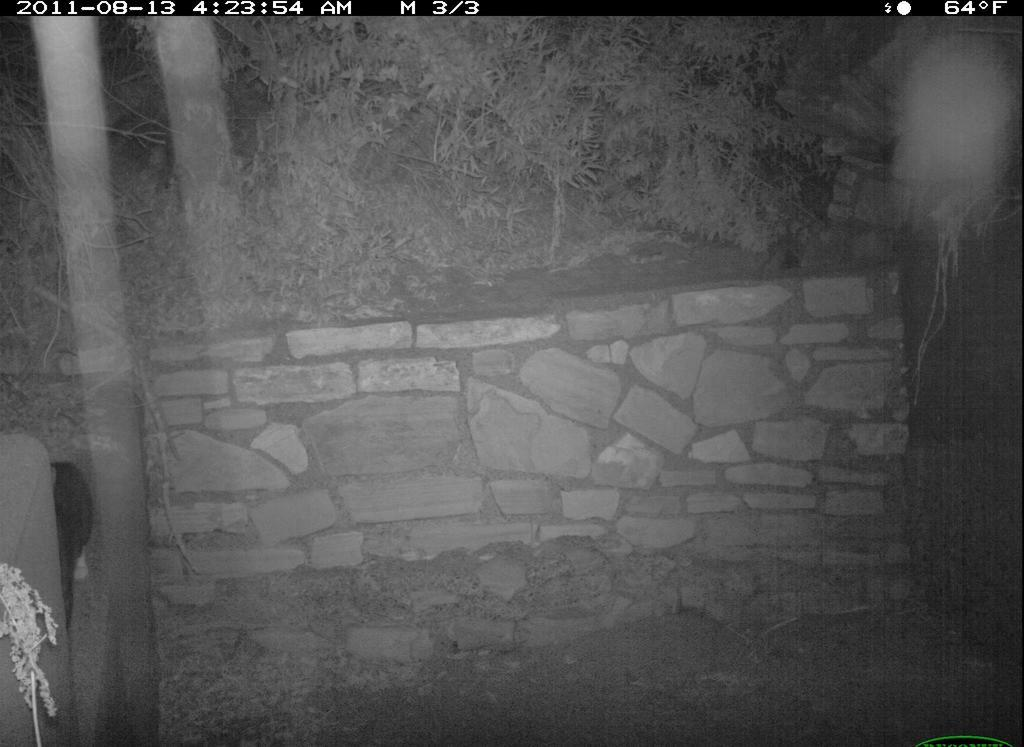cat: (47, 461, 97, 635)
